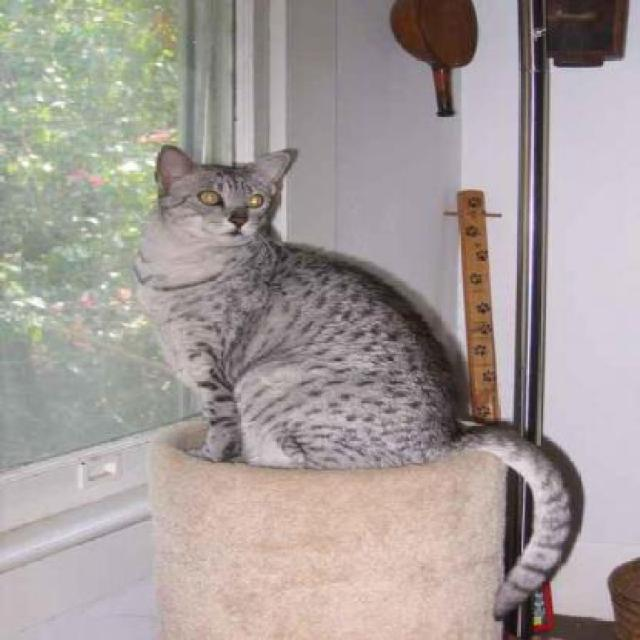cat: (130, 142, 578, 620)
